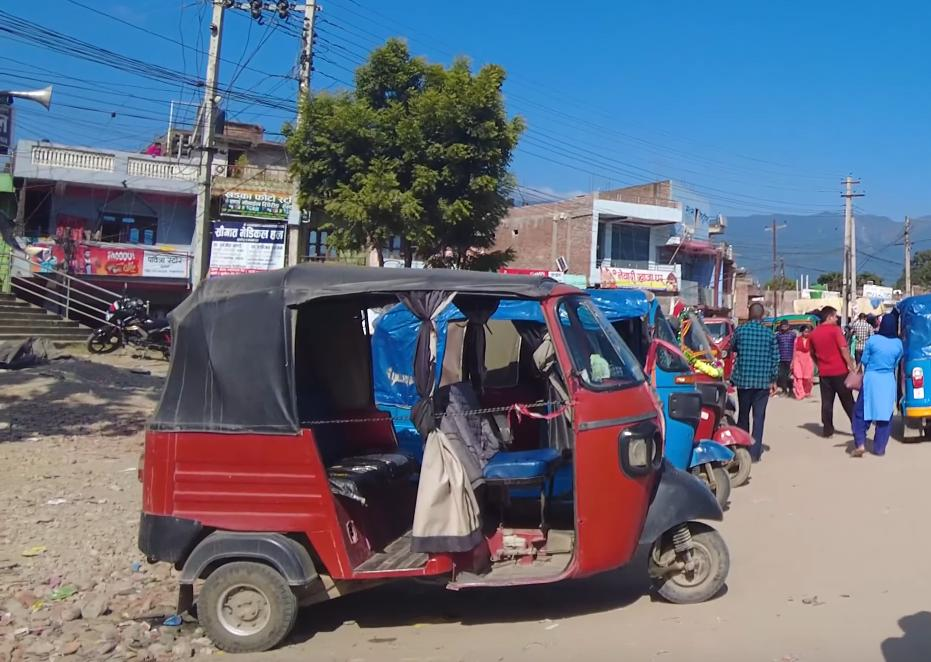auto_rickshaw: (137, 254, 739, 657), (883, 292, 931, 446)
